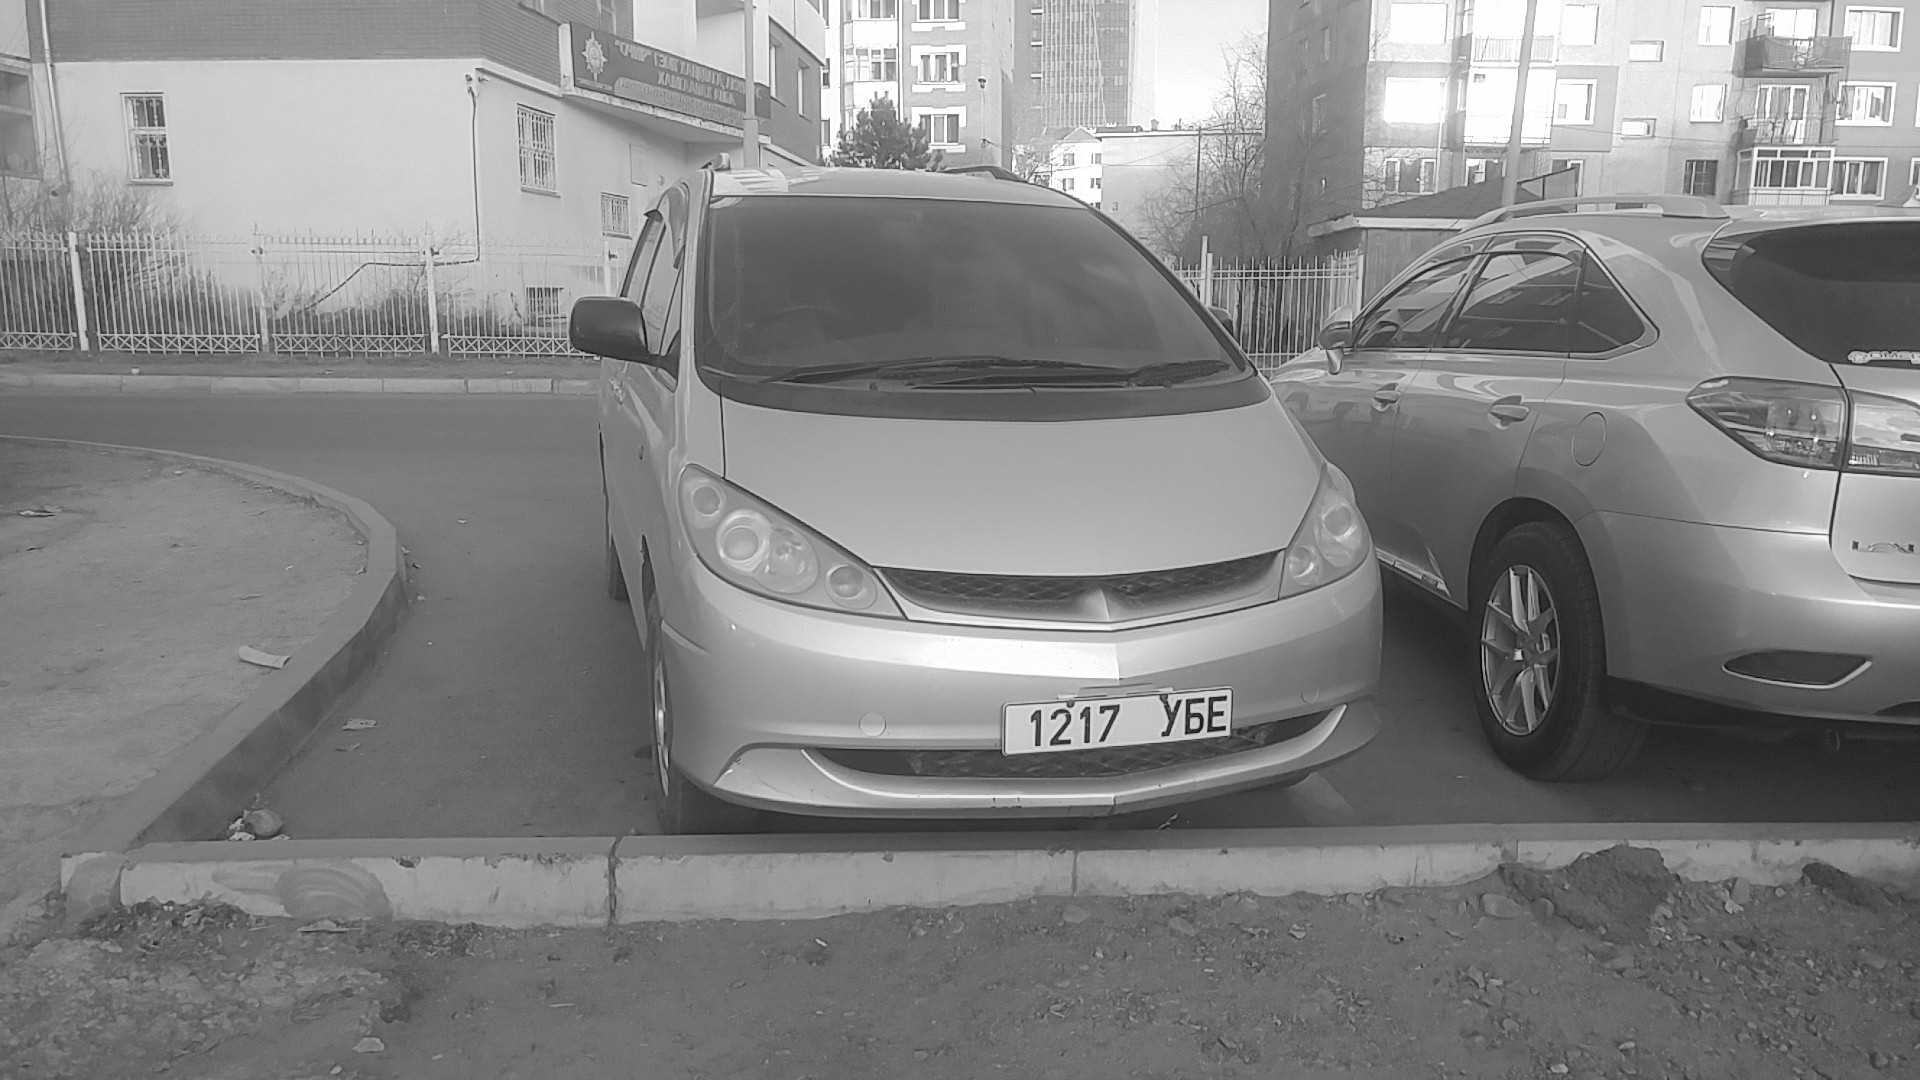1: (1079, 706, 1093, 745), (1030, 709, 1043, 747)
2: (1049, 708, 1073, 747)
7: (1099, 704, 1120, 743)
b: (1184, 696, 1205, 736)
plate: (1001, 685, 1234, 757)
u: (1159, 698, 1182, 736)
ye: (1205, 693, 1230, 733)
